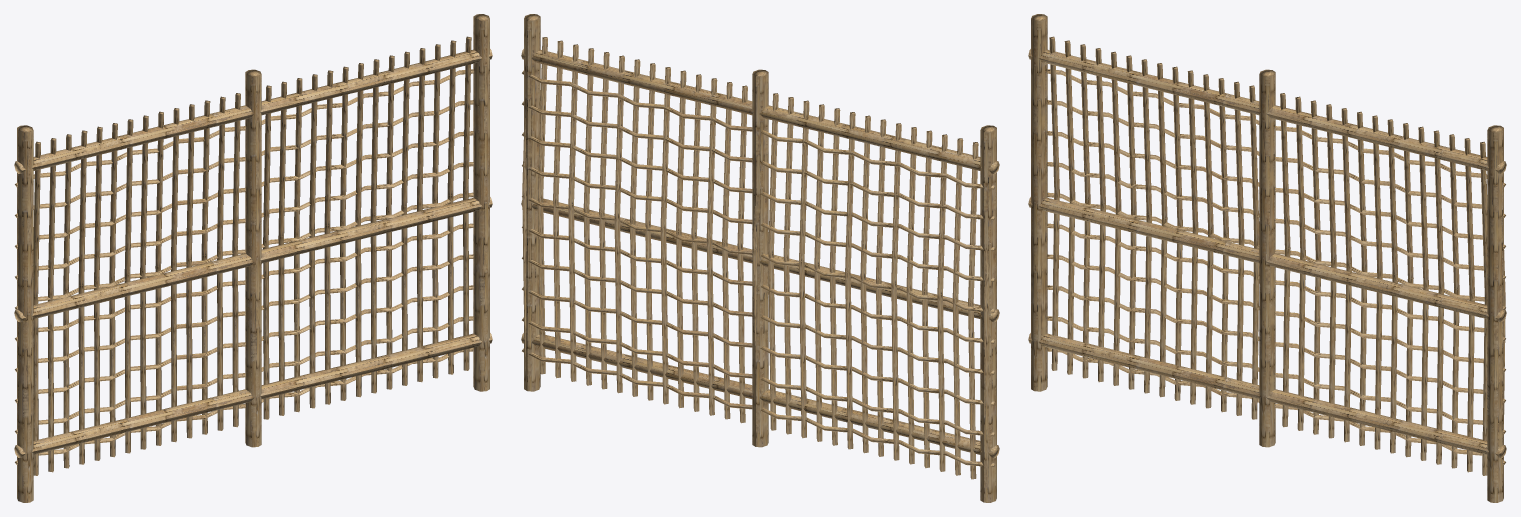
File: prop_fence.glb
The picture shows the model from 3 angles, left to right: view 1: azimuth 30°, elevation 25°; view 2: azimuth 150°, elevation 25°; view 3: azimuth 330°, elevation 25°; orthographic projection.
Parts seen in each view (by area): view 1: prop_fence; view 2: prop_fence; view 3: prop_fence.
Part boxes in pixels (left/top/right/bottom): prop_fence: left=14, top=14, right=492, bottom=502; prop_fence: left=521, top=14, right=999, bottom=502; prop_fence: left=1028, top=14, right=1506, bottom=502.
Bounding box in the file's own units: 2 × 1.5 × 0.09.
1 material, 1 textured.
